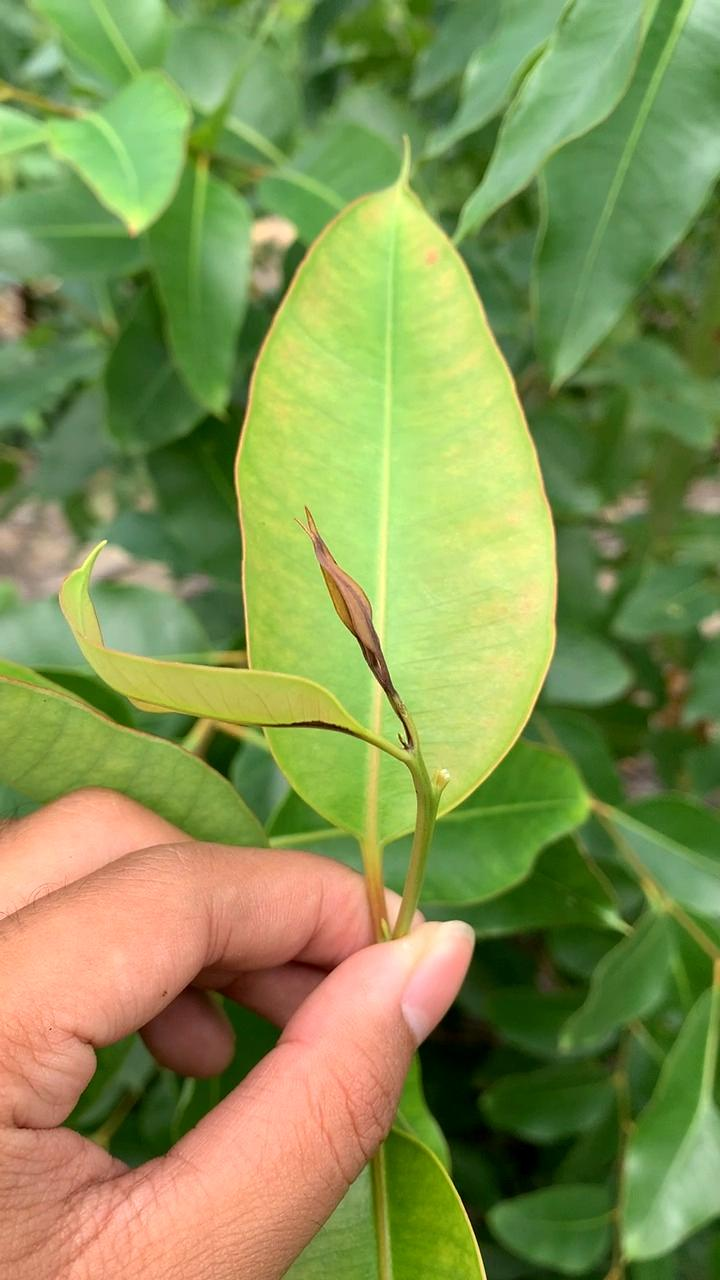Helopeltis-Withered Sprout: (298, 511, 415, 731)
